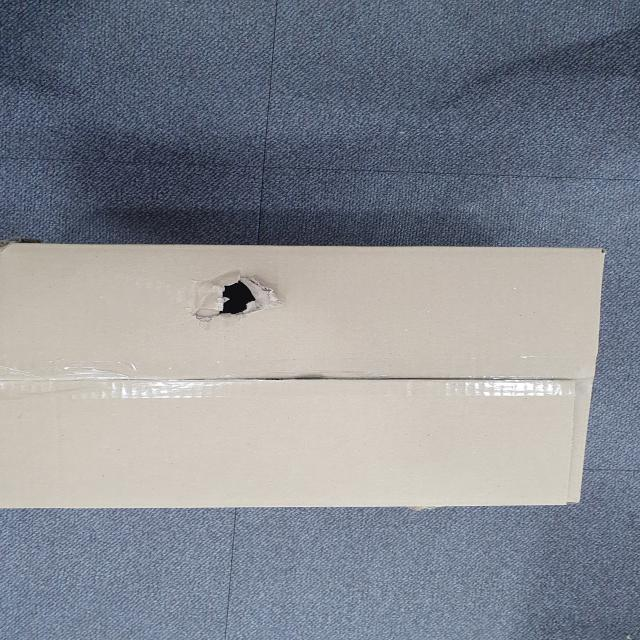hole: (188, 270, 288, 326)
